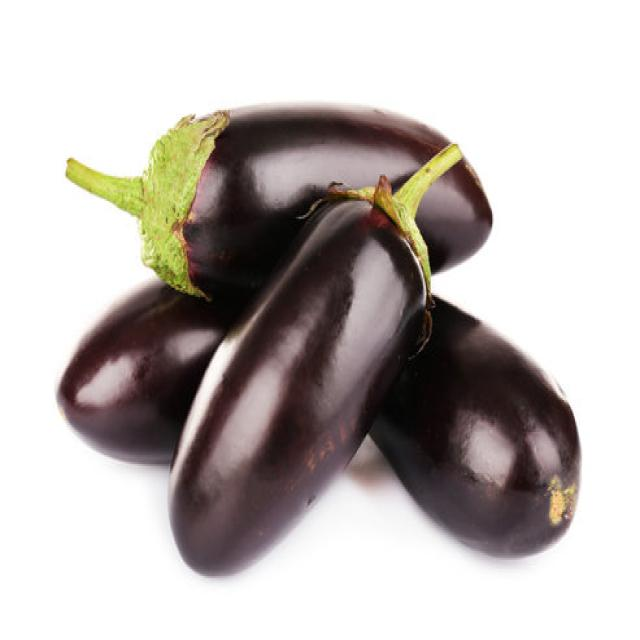Eggplant: (166, 137, 468, 576), (64, 100, 493, 304), (366, 290, 582, 558), (55, 276, 228, 464)
